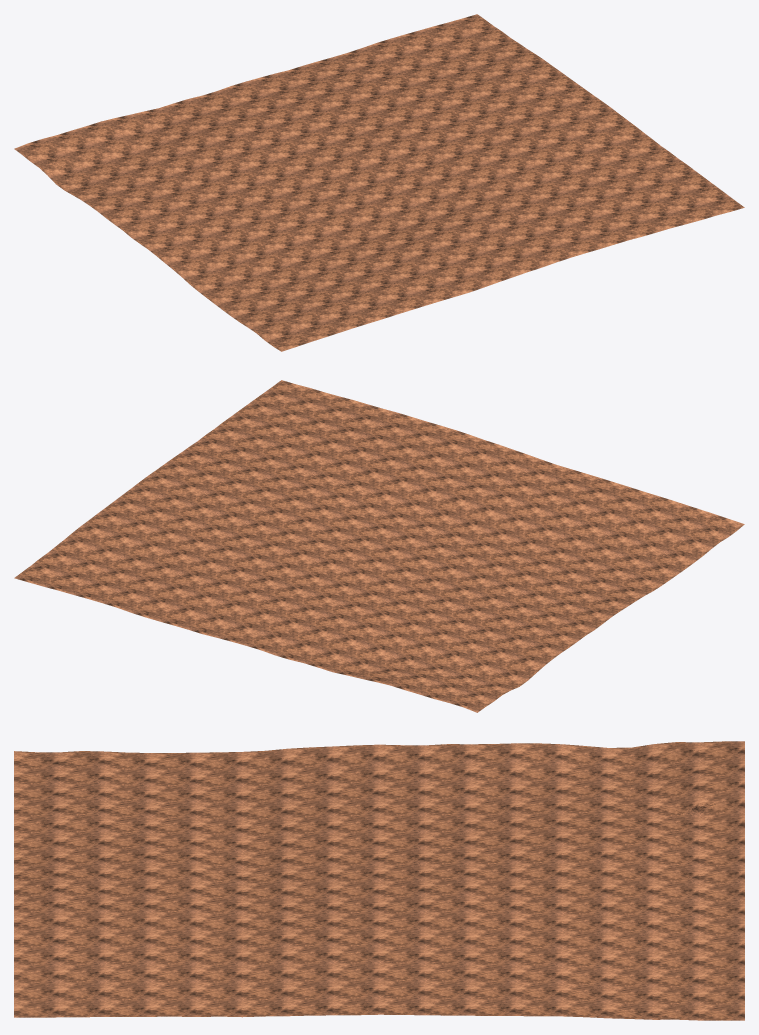
File: terrain_08_09.dae
3 views of the same model, one above another, from view 1: azimuth 30°, elevation 25°; view 2: azimuth 150°, elevation 25°; view 3: azimuth 270°, elevation 25° (orthographic). The views are drawn at different scales.
Parts seen in each view (by area): view 1: terrain_08_09-node; view 2: terrain_08_09-node; view 3: terrain_08_09-node.
Part boxes in pixels (x1=…): terrain_08_09-node: x1=14, y1=14, x2=744, y2=351; terrain_08_09-node: x1=14, y1=380, x2=744, y2=712; terrain_08_09-node: x1=14, y1=741, x2=744, y2=1020.
Bounding box in the file's own units: 128 × 128 × 9.11.
1 material, 1 textured.
